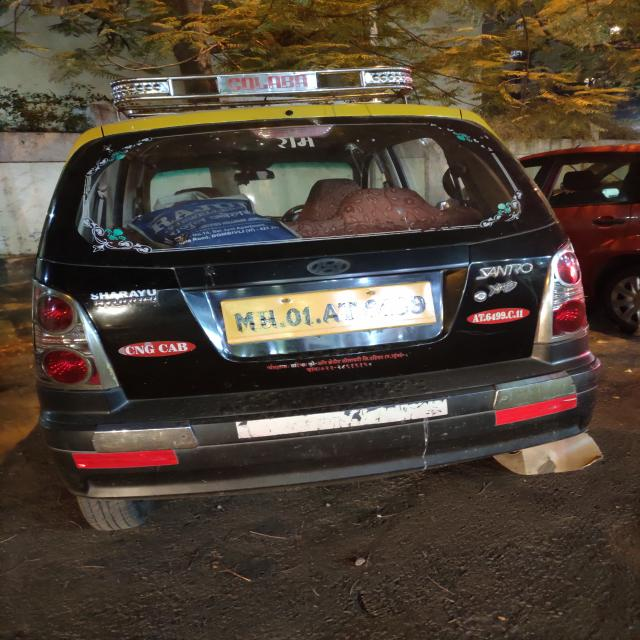Number-Plate: (227, 292, 431, 328)
